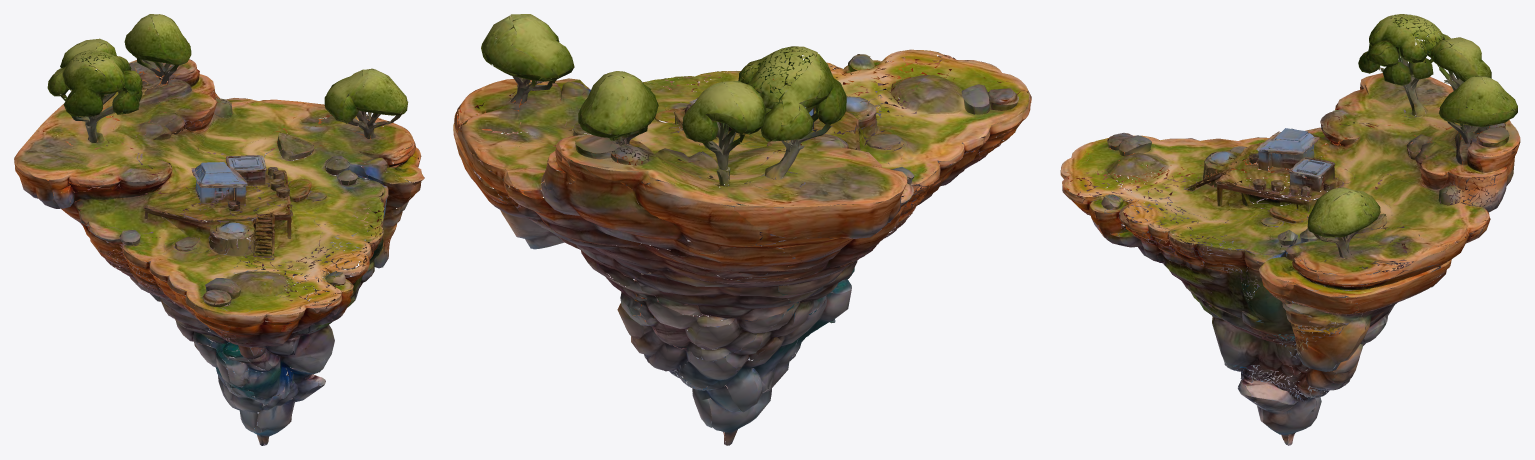
File: fab_island_3.glb
3 views of the same model, side by side, from view 1: azimuth 30°, elevation 25°; view 2: azimuth 150°, elevation 25°; view 3: azimuth 270°, elevation 25° (orthographic). The views are drawn at different scales.
Parts seen in each view (by area): view 1: material; view 2: material; view 3: material.
Part boxes in pixels (box(x1,y1,x2,y2)): material: box(14, 14, 424, 445); material: box(453, 14, 1031, 445); material: box(1060, 14, 1520, 445).
Bounding box in the file's own units: 0.9025 × 0.877 × 0.9774.
1 material, 1 textured.
